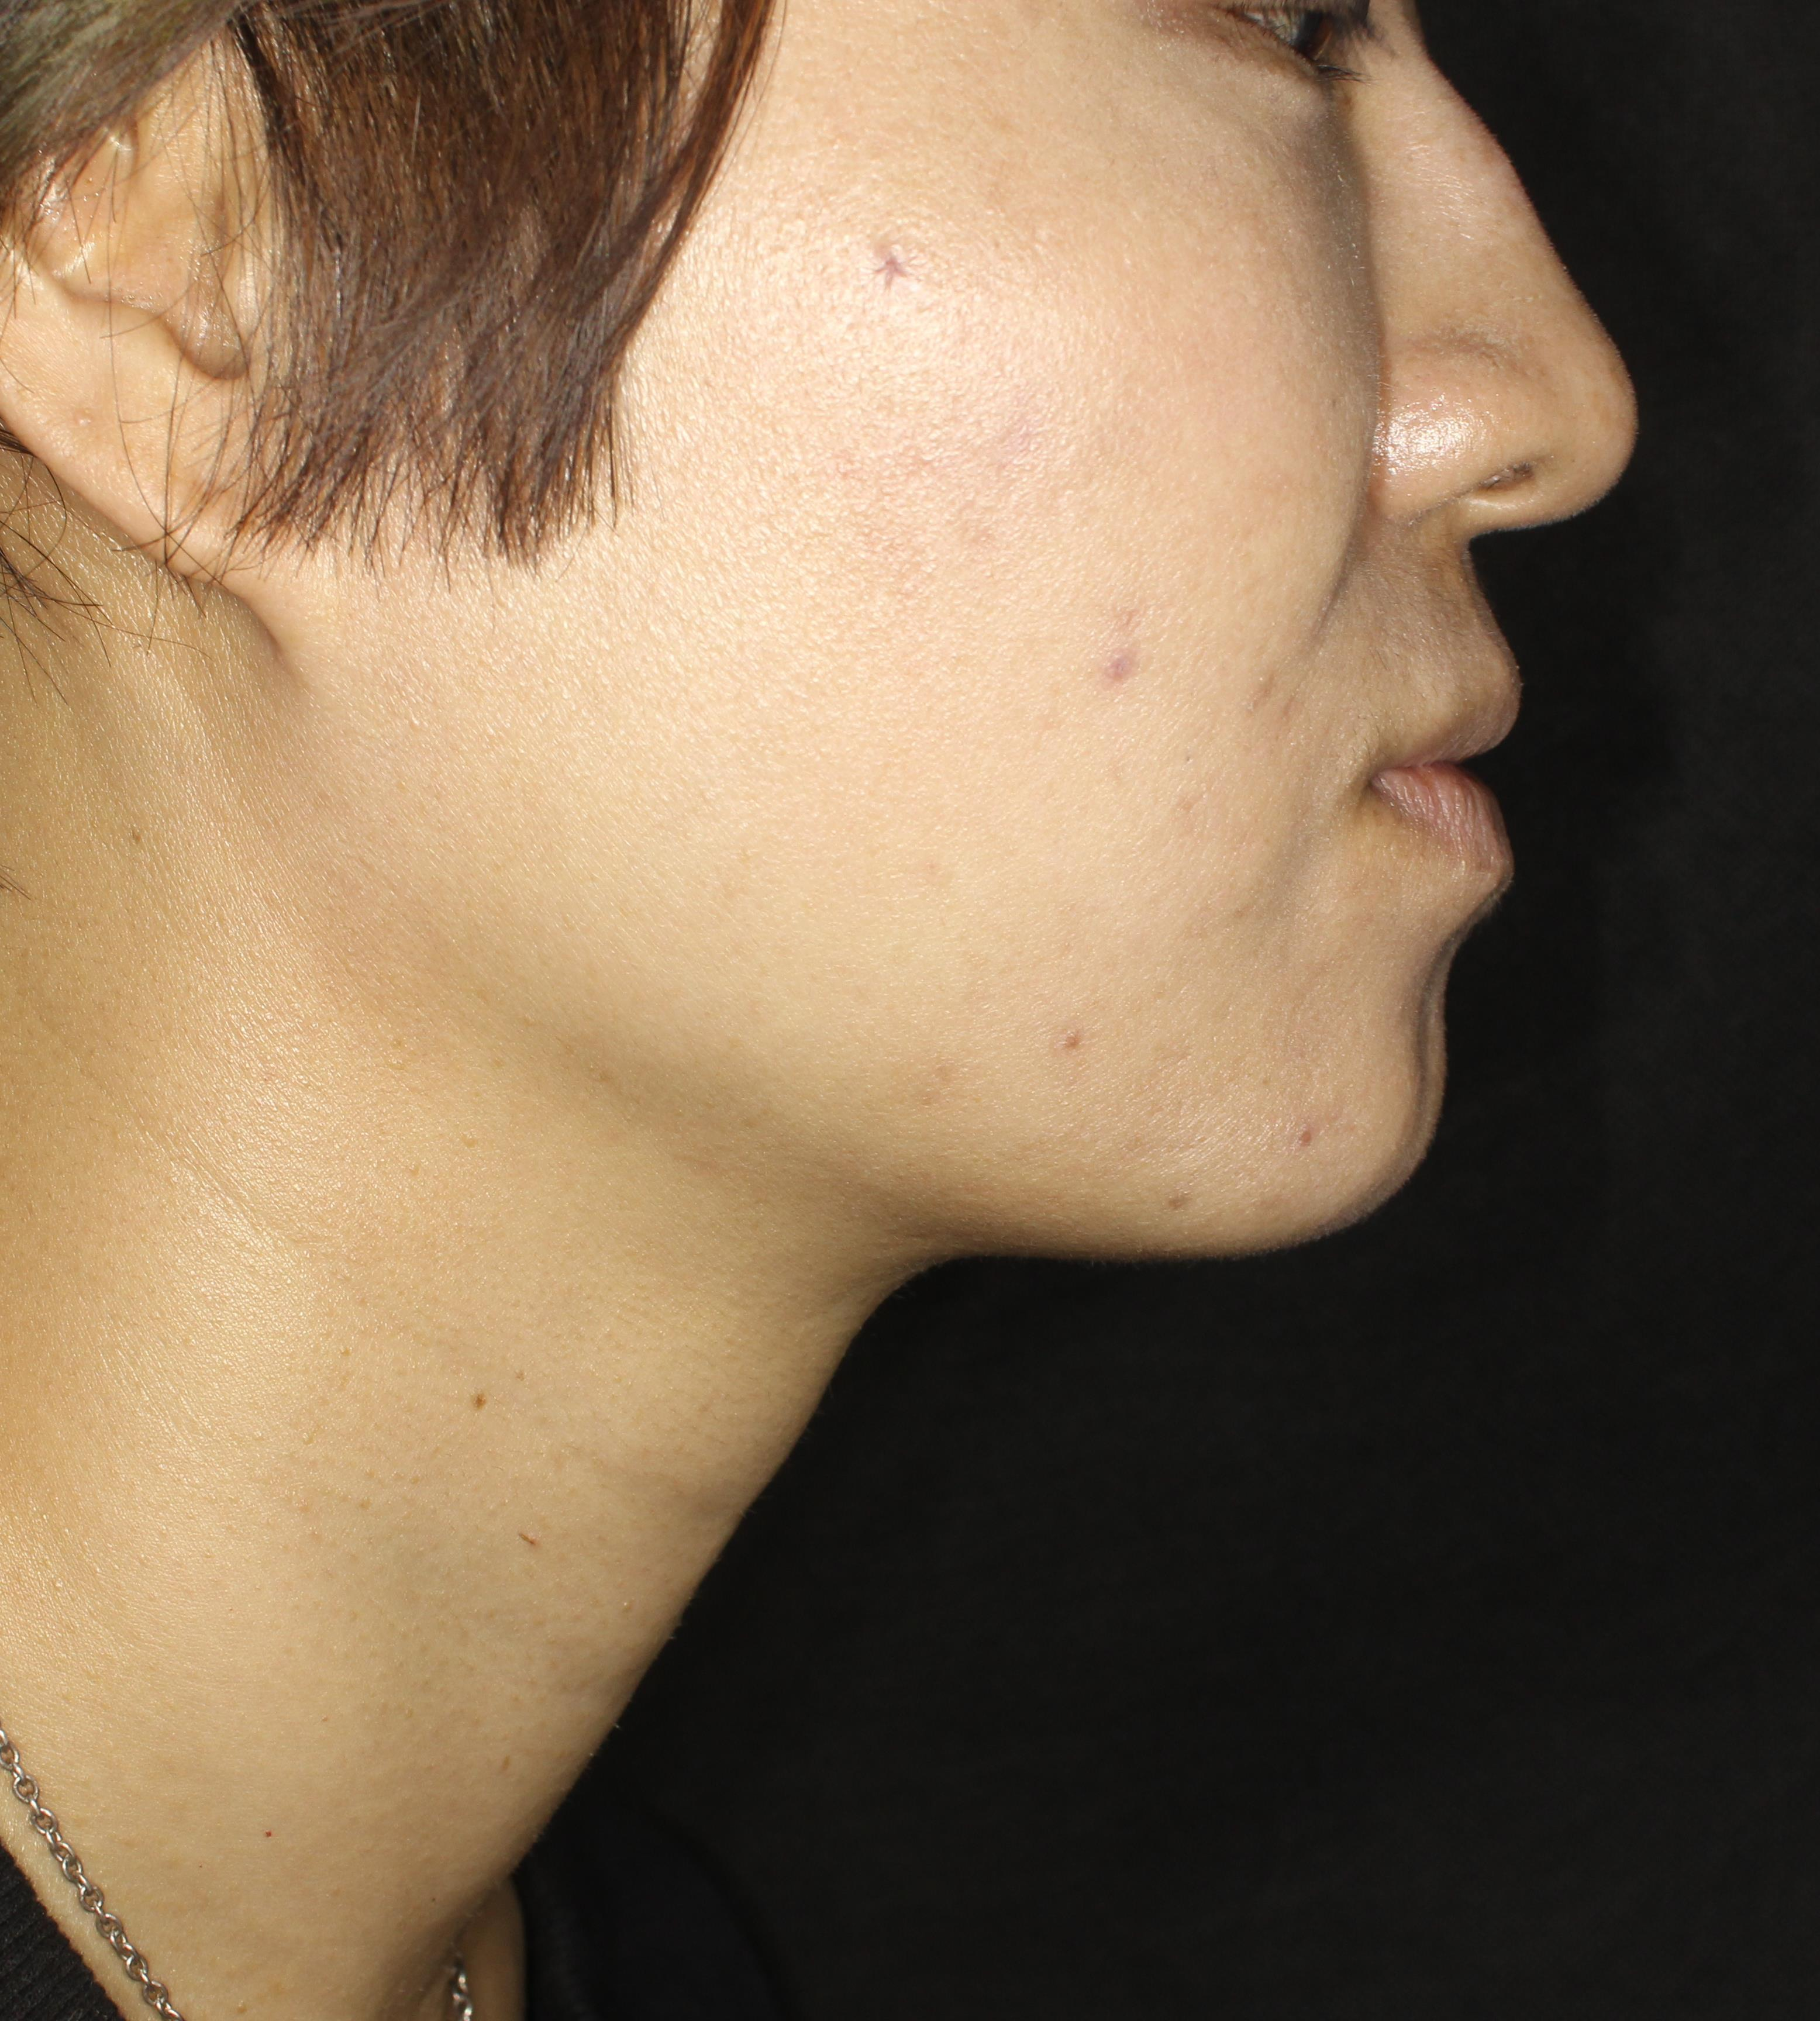fore: (1091, 613, 1233, 766)
